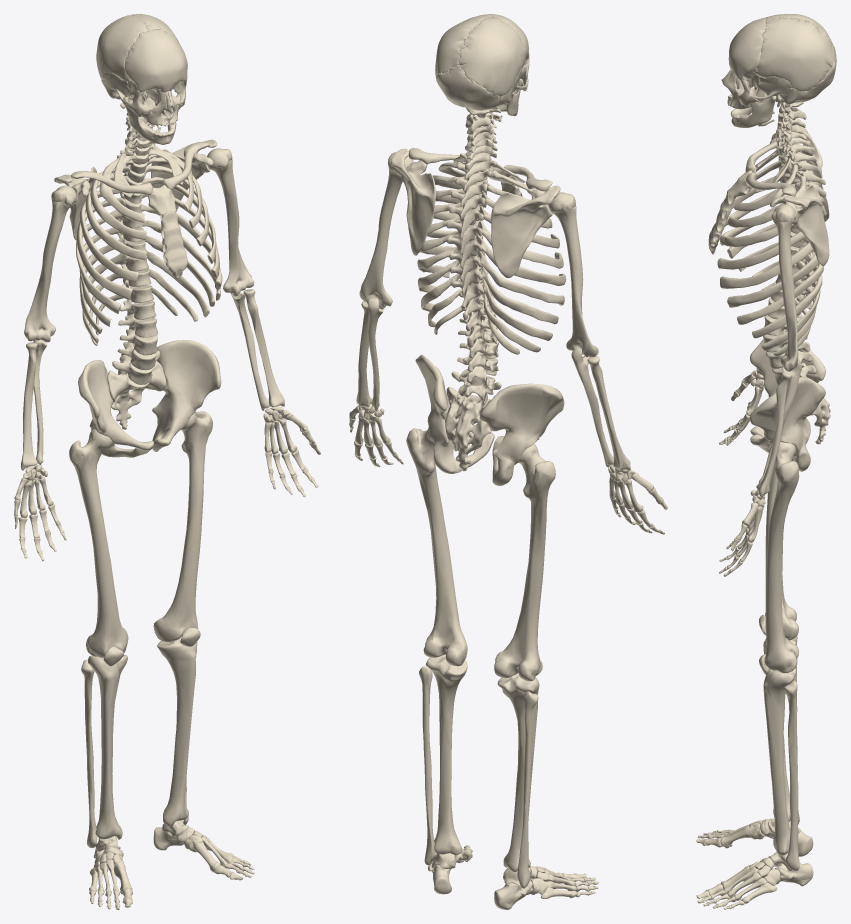
Rendered from esqueleto.glb.
3 views of the same model, side by side, from view 1: azimuth 30°, elevation 25°; view 2: azimuth 150°, elevation 25°; view 3: azimuth 270°, elevation 25° (orthographic). The views are drawn at different scales.
Parts seen in each view (by area): view 1: FMA24474, FMA24475, FMA16587, FMA24478, FMA52734, FMA24477, FMA16586, FMA23130, FMA23131, FMA52788, FMA16202, FMA24480 (+17 smaller); view 2: FMA24474, FMA24475, FMA16586, FMA52788, FMA13395, FMA24478, FMA24477, FMA16587, FMA23130, FMA13396, FMA16202, FMA23131 (+14 smaller); view 3: FMA24475, FMA52789, FMA24478, FMA16587, FMA23131, FMA13396, FMA24481, FMA52734, FMA16586, FMA24474, FMA23465, FMA52739 (+24 smaller).
Boxes of the visible parts, left/top/right/bottom form: FMA24474: left=69, top=428, right=128, bottom=657; FMA24475: left=153, top=411, right=212, bottom=642; FMA16587: left=152, top=340, right=221, bottom=451; FMA24478: left=157, top=636, right=197, bottom=826; FMA52734: left=125, top=28, right=187, bottom=93; FMA24477: left=88, top=654, right=127, bottom=839; FMA16586: left=78, top=360, right=153, bottom=457; FMA23130: left=24, top=185, right=76, bottom=342; FMA23131: left=207, top=148, right=254, bottom=296; FMA52788: left=96, top=15, right=149, bottom=81; FMA16202: left=107, top=361, right=166, bottom=429; FMA24480: left=81, top=659, right=97, bottom=848; FMA24474: left=494, top=444, right=555, bottom=681; FMA24475: left=406, top=428, right=467, bottom=666; FMA16586: left=479, top=383, right=564, bottom=485; FMA52788: left=458, top=16, right=526, bottom=96; FMA13395: left=491, top=185, right=560, bottom=278; FMA24478: left=425, top=654, right=467, bottom=854; FMA24477: left=497, top=673, right=539, bottom=871; FMA16587: left=415, top=354, right=494, bottom=473; FMA23130: left=549, top=192, right=598, bottom=357; FMA13396: left=391, top=148, right=435, bottom=255; FMA16202: left=445, top=387, right=491, bottom=471; FMA23131: left=359, top=152, right=413, bottom=309; FMA24475: left=764, top=442, right=799, bottom=673; FMA52789: left=755, top=17, right=834, bottom=91; FMA24478: left=763, top=668, right=795, bottom=855; FMA16587: left=750, top=377, right=825, bottom=471; FMA23131: left=771, top=204, right=798, bottom=371; FMA13396: left=770, top=184, right=829, bottom=266; FMA24481: left=783, top=680, right=799, bottom=870; FMA52734: left=728, top=17, right=767, bottom=80; FMA16586: left=750, top=330, right=825, bottom=444; FMA24474: left=765, top=460, right=798, bottom=640; FMA23465: left=756, top=371, right=792, bottom=497; FMA52739: left=753, top=76, right=807, bottom=107.
Size of the model in its own units: 0.6478 by 1.71 by 0.254.
